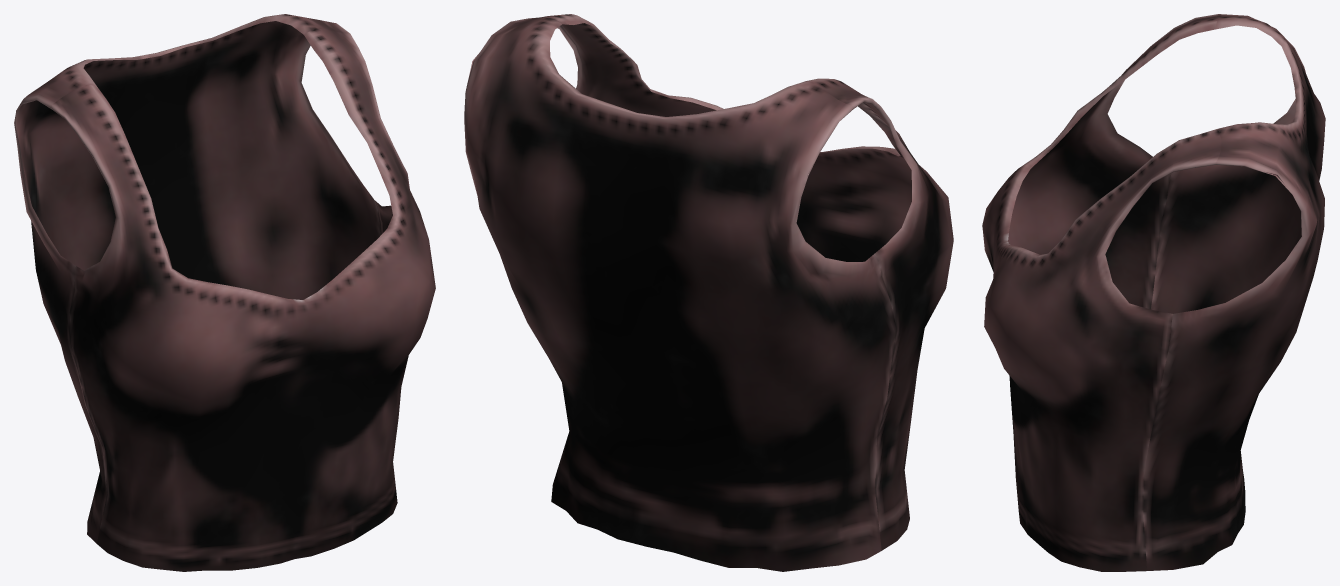
The model's file is qwe.obj.
3 renders of one model, left to right at view 1: azimuth 30°, elevation 25°; view 2: azimuth 150°, elevation 25°; view 3: azimuth 270°, elevation 25°, orthographic. The views are drawn at different scales.
Parts seen in each view (by area): view 1: Dress; view 2: Dress; view 3: Dress.
Part boxes in pixels (x1,y1,x2,y2): Dress: (14,14,435,571); Dress: (464,14,953,571); Dress: (982,14,1325,571).
Size of the model in its own units: 30.21 by 38.85 by 27.82.
